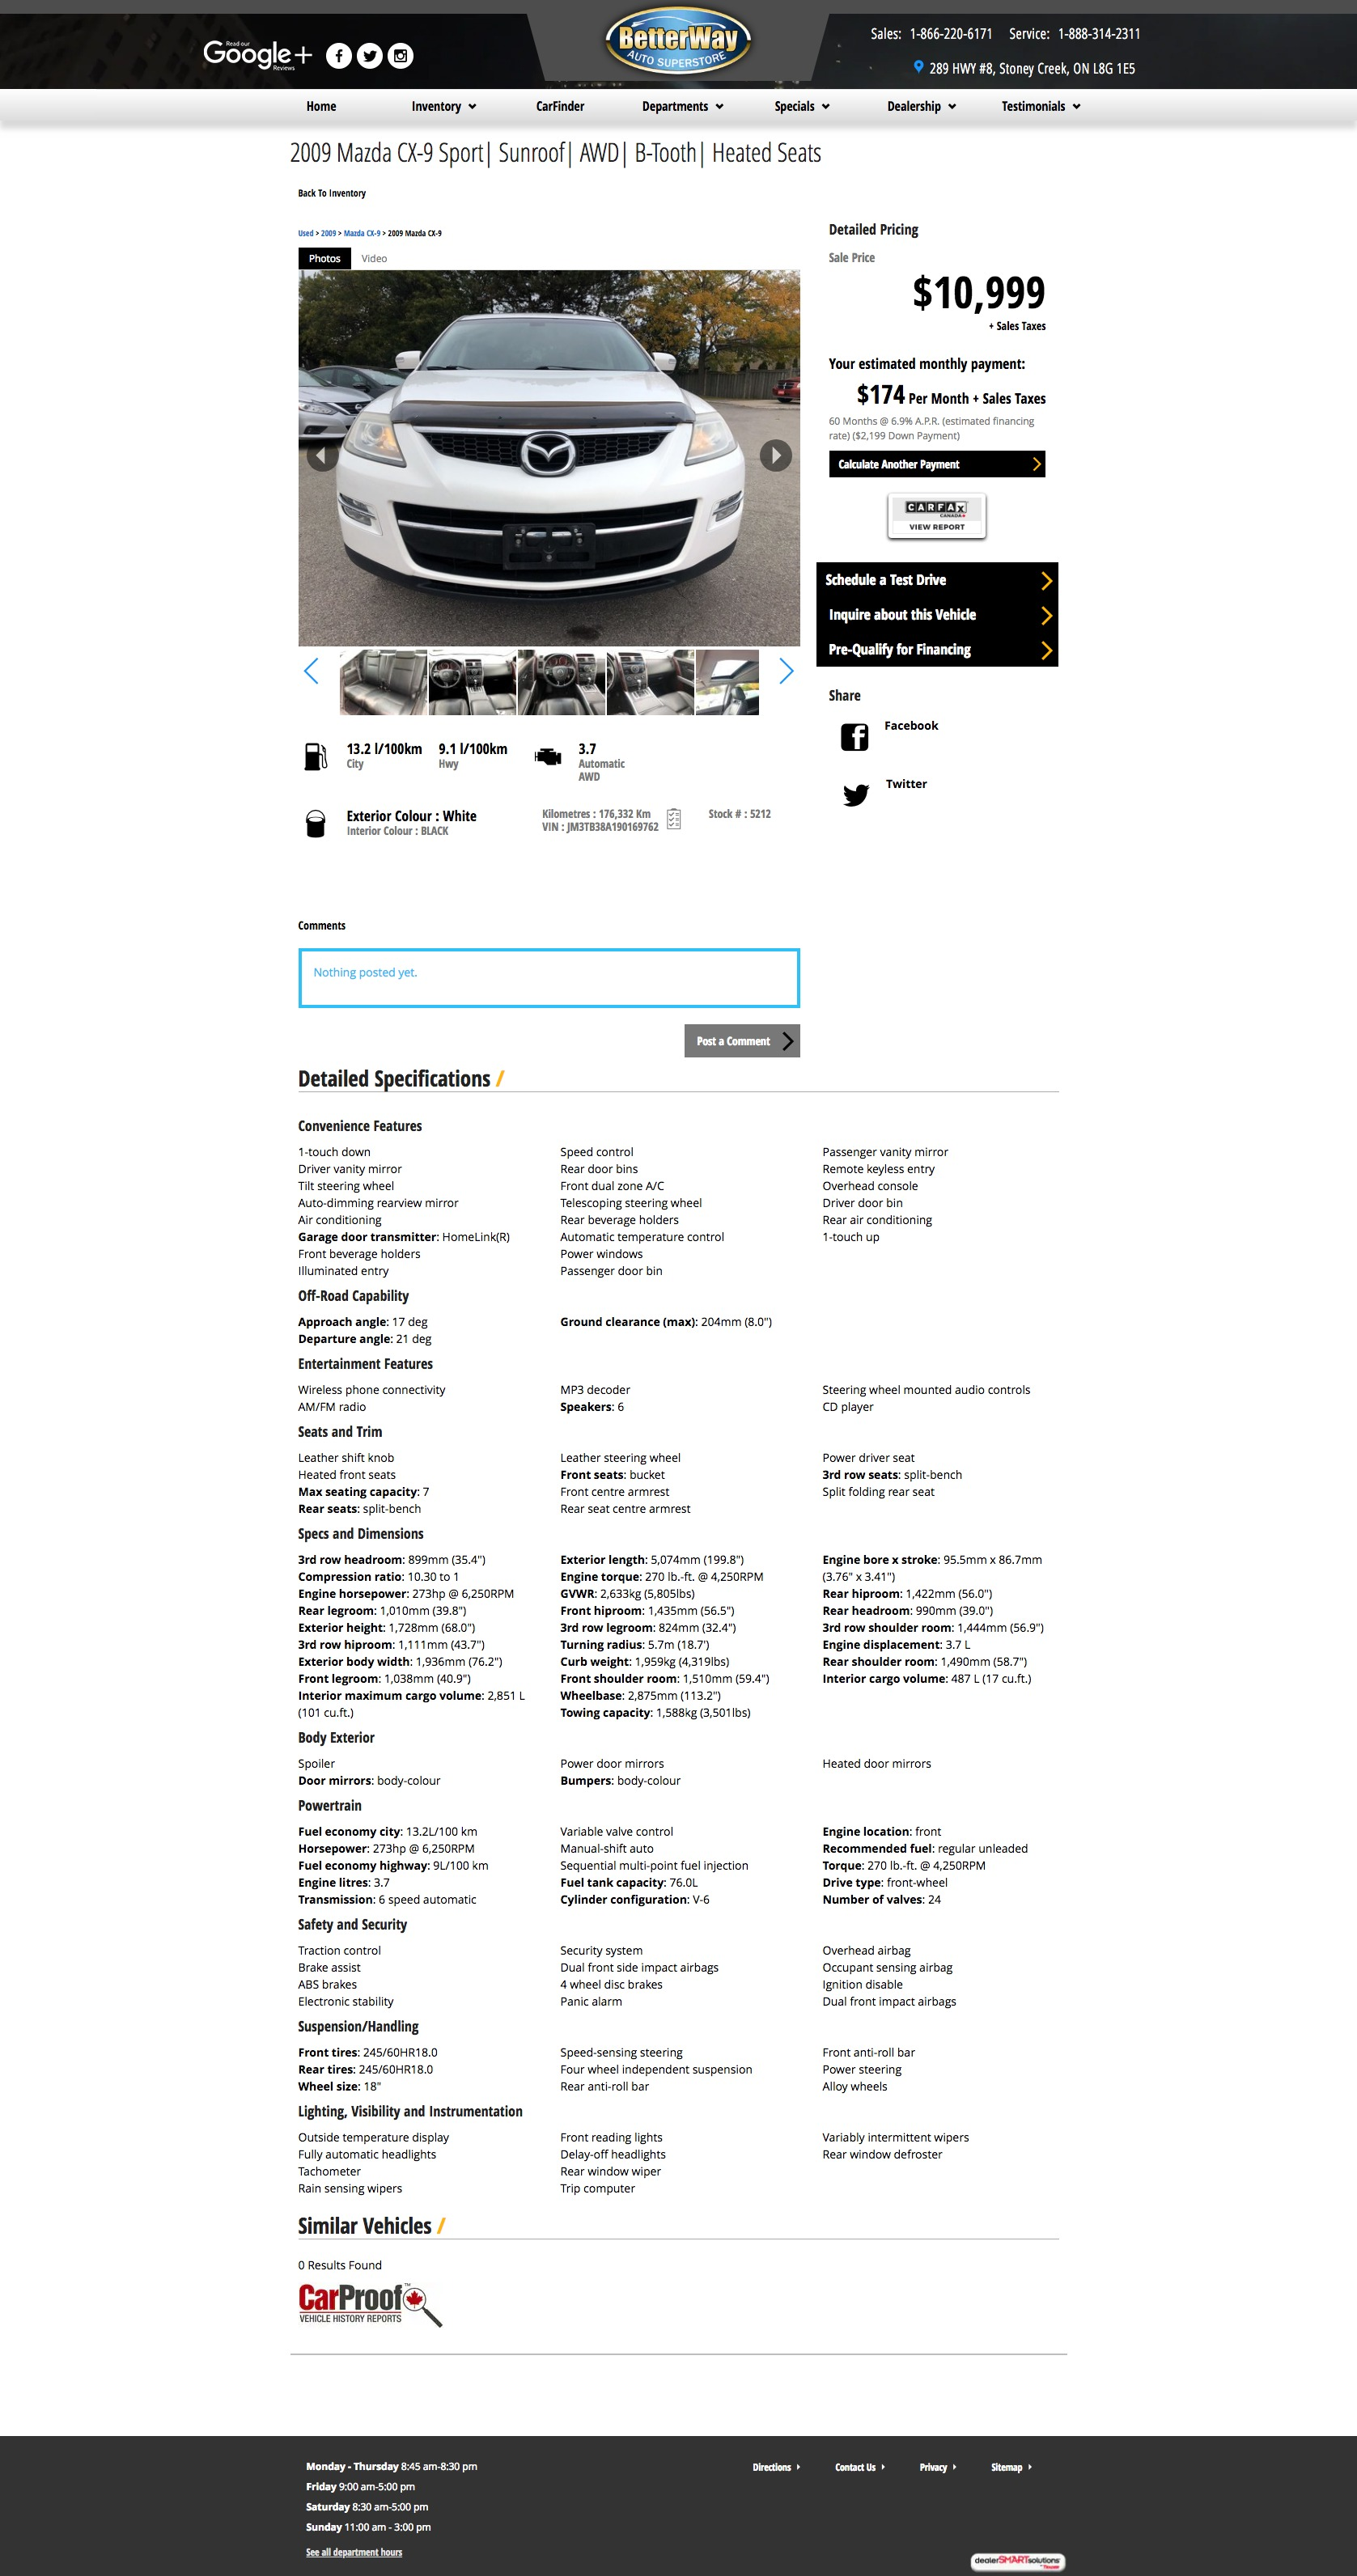car: (781, 658, 794, 687)
